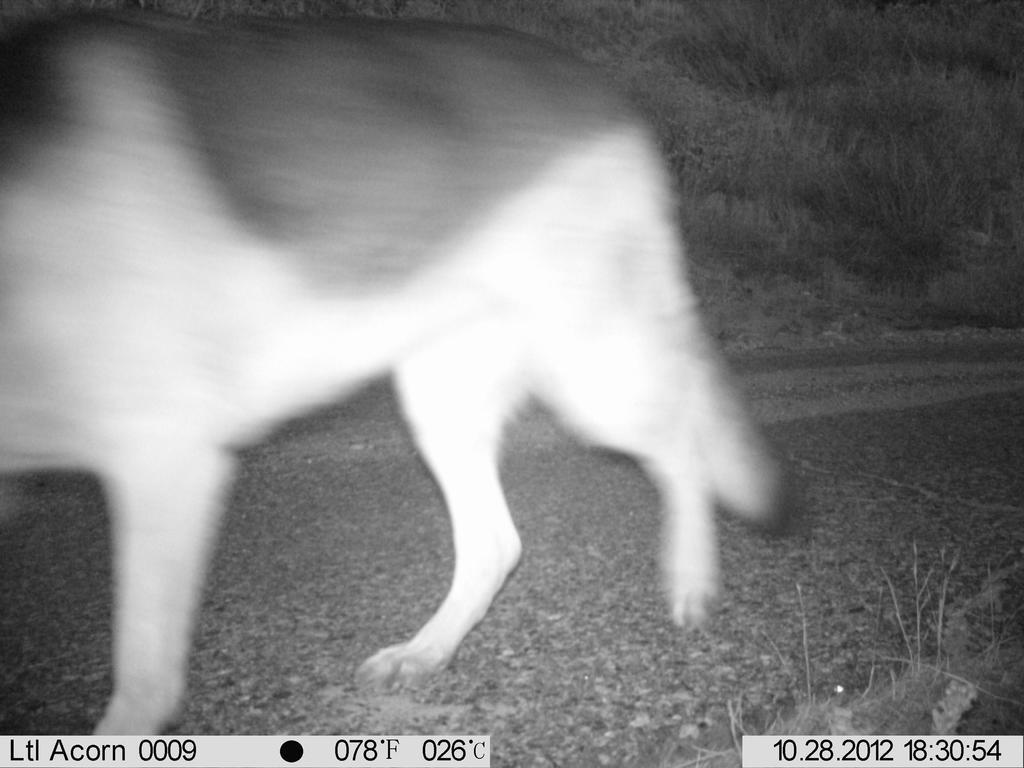dog: (8, 9, 840, 713)
